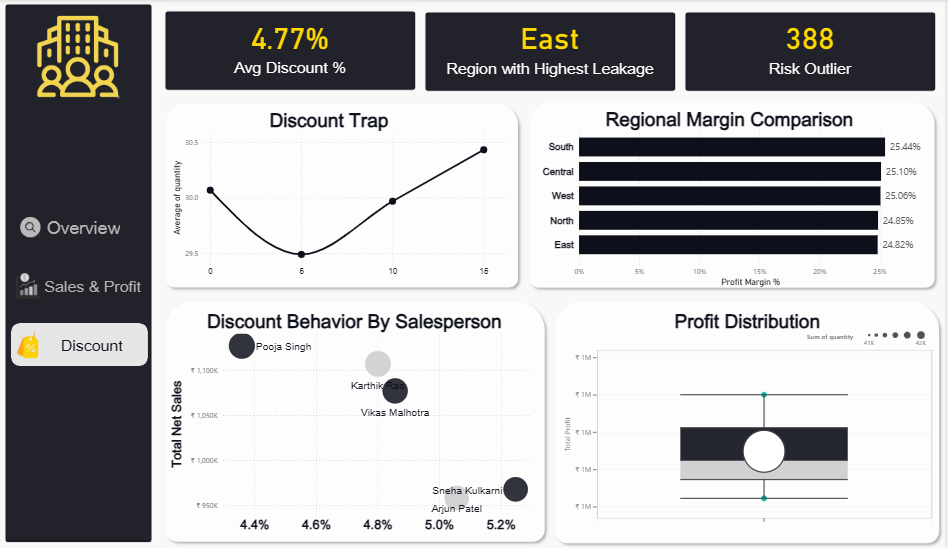

The page's visual inventory and layout, read from the dashboard file:
{"tool":"powerbi","page":{"name":"Discount","canvas":[1580,920],"ordinal":2},"visuals":[{"type":"shape","box":[0,0,262.5,917.5],"z":0},{"type":"shape","box":[703.1,12.7,435.9,149.3],"z":1000},{"type":"shape","box":[1138.1,12.7,435.9,149.3],"z":2000},{"type":"shape","box":[268,12,435.9,149.3],"z":3000},{"type":"card","fields":{"Values":["dim_customer.Avg Discount %"]},"box":[268.1,23.4,435,72.8],"z":4000},{"type":"textbox","box":[268.1,90.8,435,56.8],"z":5000},{"type":"card","fields":{"Values":["dim_customer.Region with Highest Leakage"]},"box":[703.2,24.1,435,72.8],"z":6000},{"type":"card","fields":{"Values":["dim_customer.Risk Outlier Count"]},"box":[1137.3,24.2,435.2,73.1],"z":7000},{"type":"textbox","box":[703.2,91.5,435,56.8],"z":8000},{"type":"shape","box":[876,164,696,328],"z":9000},{"type":"textbox","box":[1138.2,91.5,435,56.8],"z":10000},{"type":"shape","box":[267.5,497.5,652.5,420],"z":11000},{"type":"shape","box":[920,497.5,660,422.5],"z":12000},{"type":"shape","box":[268,166,608,326],"z":13000},{"type":"lineChart","fields":{"Y":["Avg(fact_sales_transactions.quantity)"],"Category":["fact_sales_transactions.discount_pct"]},"box":[282,208,572,268],"z":14000},{"type":"barChart","fields":{"Category":["dim_region.region"],"Y":["dim_category.Profit Margin %"]},"box":[902,202,658,284],"z":15000},{"type":"scatterChart","fields":{"Category":["dim_salesperson.name"],"X":["dim_customer.Avg Discount %"],"Y":["fact_sales_transactions.Total Net Sales"],"Size":["fact_sales_transactions.Total Profit"]},"box":[280,547.5,640,357.5],"z":16000},{"type":"BoxandWhiskerByMAQ1823AD39DT234AB532063E128AX","fields":{"category":["dim_category.category_name"],"measure":["fact_sales_transactions.Total Profit"],"categorySize":["Sum(fact_sales_transactions.quantity)"]},"box":[930,547.5,635,357.5],"z":17000},{"type":"textbox","box":[282.5,175,535,77.5],"z":18000},{"type":"textbox","box":[876,174,696,58],"z":19000},{"type":"textbox","box":[920,512.5,660,57.5],"z":20000},{"type":"textbox","box":[282.5,512.5,620,57.5],"z":21000},{"type":"shape","box":[18,542,229,72],"z":22000},{"type":"pageNavigator","box":[41.7,340,195,83.3],"z":23000},{"type":"pageNavigator","box":[43.3,438.3,223.3,83.3],"z":24000},{"type":"pageNavigator","box":[41.7,536.7,223.3,83.3],"z":25000},{"type":"image","box":[20,458.3,53.3,43.3],"z":26000},{"type":"image","box":[24,554,46,48],"z":27000},{"type":"image","box":[26,365,47,34],"z":28000},{"type":"image","box":[15.9,19.4,229.5,151.8],"z":28001}]}

Visuals, with their boxes on the page's 1580x920 design canvas (x1, y1, x2, y2). These are canvas units, not pixel positions in the 948x548 screenshot, which may show the page scaled, cropped or inside an application window:
shape: Rect(0, 0, 262, 918)
shape: Rect(703, 13, 1139, 162)
shape: Rect(1138, 13, 1574, 162)
shape: Rect(268, 12, 704, 161)
card - dim_customer.Avg Discount %: Rect(268, 23, 703, 96)
textbox: Rect(268, 91, 703, 148)
card - dim_customer.Region with Highest Leakage: Rect(703, 24, 1138, 97)
card - dim_customer.Risk Outlier Count: Rect(1137, 24, 1572, 97)
textbox: Rect(703, 92, 1138, 148)
shape: Rect(876, 164, 1572, 492)
textbox: Rect(1138, 92, 1573, 148)
shape: Rect(268, 498, 920, 918)
shape: Rect(920, 498, 1580, 920)
shape: Rect(268, 166, 876, 492)
lineChart - Avg(fact_sales_transactions.quantity) x fact_sales_transactions.discount_pct: Rect(282, 208, 854, 476)
barChart - dim_region.region x dim_category.Profit Margin %: Rect(902, 202, 1560, 486)
scatterChart - dim_salesperson.name x dim_customer.Avg Discount %: Rect(280, 548, 920, 905)
BoxandWhiskerByMAQ1823AD39DT234AB532063E128AX - dim_category.category_name x fact_sales_transactions.Total Profit: Rect(930, 548, 1565, 905)
textbox: Rect(282, 175, 818, 252)
textbox: Rect(876, 174, 1572, 232)
textbox: Rect(920, 512, 1580, 570)
textbox: Rect(282, 512, 902, 570)
shape: Rect(18, 542, 247, 614)
pageNavigator: Rect(42, 340, 237, 423)
pageNavigator: Rect(43, 438, 267, 522)
pageNavigator: Rect(42, 537, 265, 620)
image: Rect(20, 458, 73, 502)
image: Rect(24, 554, 70, 602)
image: Rect(26, 365, 73, 399)
image: Rect(16, 19, 245, 171)
